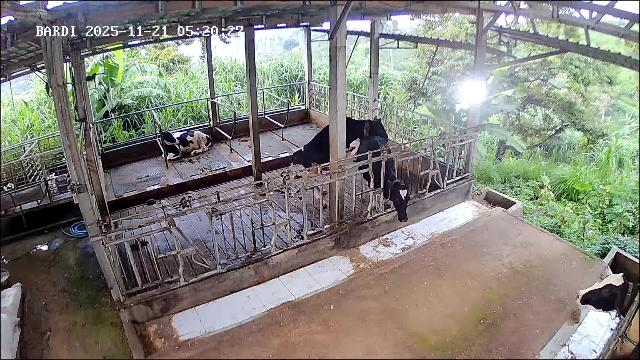mounting: (292, 114, 389, 208)
